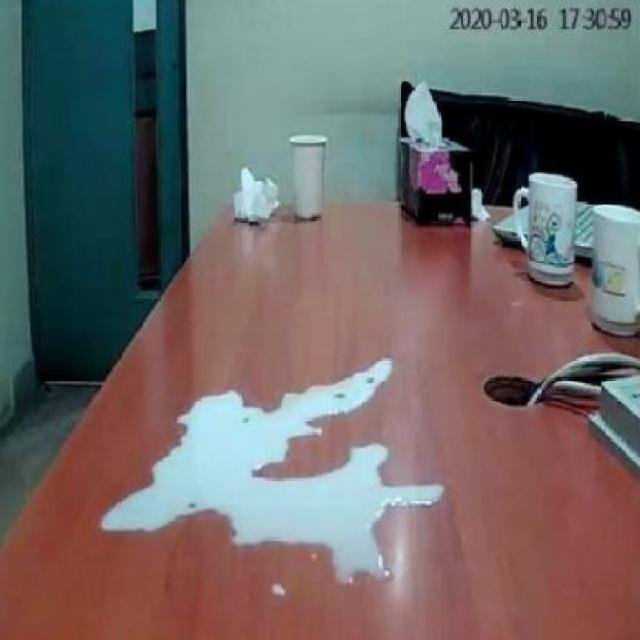spillage: (100, 358, 445, 584)
